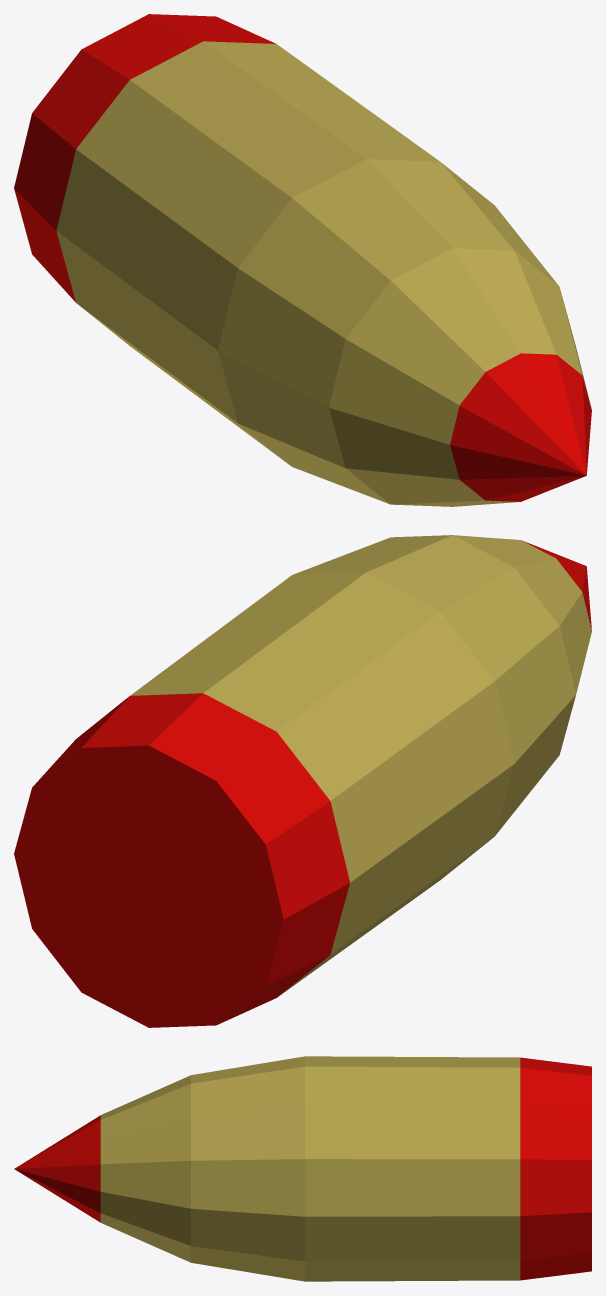
File: bullet.fbx
3 views of the same model, one above another, from view 1: azimuth 30°, elevation 25°; view 2: azimuth 150°, elevation 25°; view 3: azimuth 270°, elevation 25° (orthographic). The views are drawn at different scales.
Parts seen in each view (by area): view 1: Cylinder; view 2: Cylinder; view 3: Cylinder.
Part boxes in pixels (x1,y1,x2,y2): Cylinder: (14, 14, 591, 506); Cylinder: (14, 535, 591, 1027); Cylinder: (14, 1056, 591, 1281).
Bounding box in the file's own units: 37.18 × 37.18 × 95.03.
